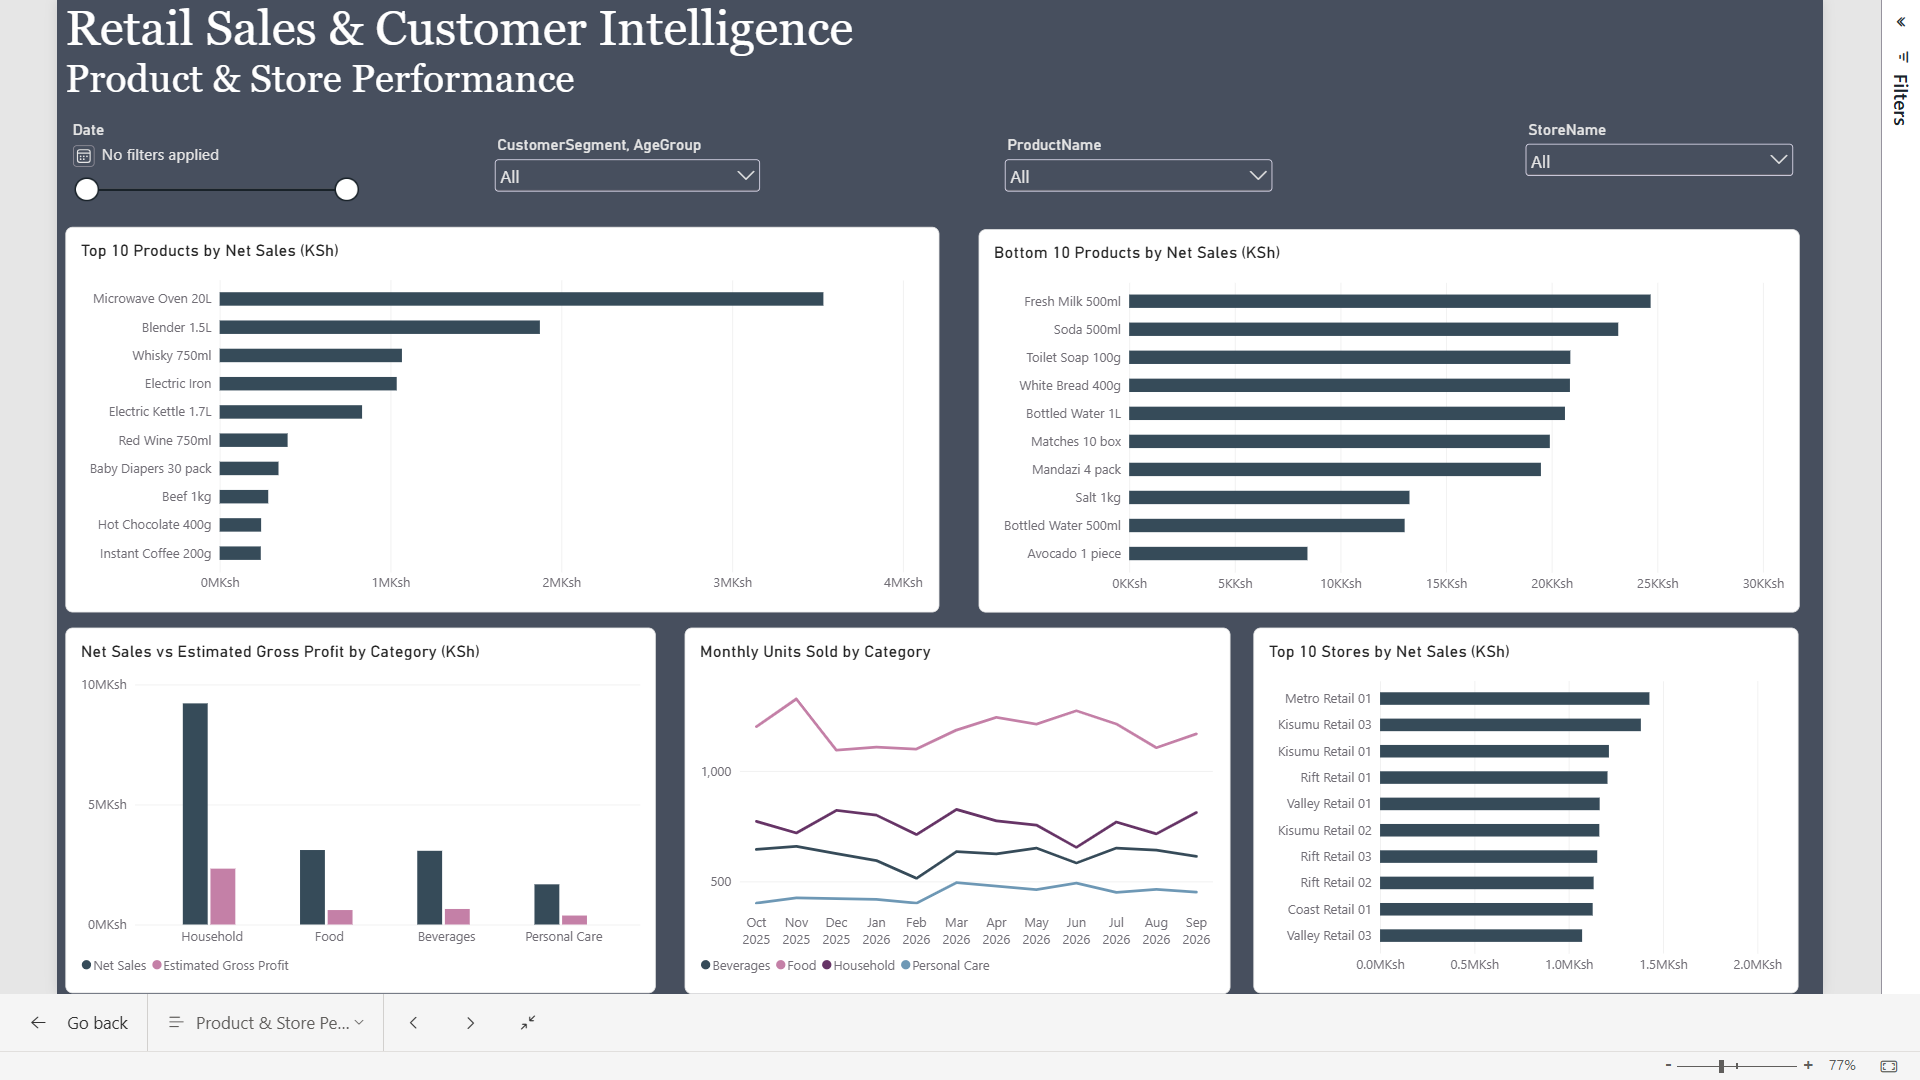

Layout of this report page (visuals, bound fields, positions):
{"tool":"powerbi","page":{"name":"Product & Store Performance","canvas":[1920,1080],"ordinal":1},"visuals":[{"type":"textbox","box":[9.1,0,883.5,129.5],"z":0},{"type":"slicer","fields":{"Values":["DateTable.Date"]},"box":[9.5,130.3,322.1,116.1],"z":1000},{"type":"slicer","fields":{"Values":["customers_cleaned.CustomerSegment","customers_cleaned.AgeGroup"]},"box":[471.3,146.8,298.4,101.8],"z":2000},{"type":"slicer","fields":{"Values":["products_cleaned.ProductName"]},"box":[1025.5,146.8,300.8,82.9],"z":3000},{"type":"slicer","fields":{"Values":["stores_cleaned.StoreName"]},"box":[1591.6,130.3,300.8,99.5],"z":4000},{"type":"clusteredBarChart","title":"Top 10 Products by Net Sales (KSh)","fields":{"Category":["products_cleaned.ProductName"],"Y":["sales_cleaned.Net Sales"]},"box":[9.5,246.3,949.7,419.2],"z":5000},{"type":"clusteredBarChart","title":"Bottom 10 Products by Net Sales (KSh)","fields":{"Category":["products_cleaned.ProductName"],"Y":["sales_cleaned.Net Sales"]},"box":[1001.9,248.7,892.9,416.8],"z":6000},{"type":"clusteredColumnChart","title":"Net Sales vs Estimated Gross Profit by Category (KSh)","fields":{"Category":["products_cleaned.Category"],"Y":["sales_cleaned.Net Sales","sales_cleaned.Estimated Gross Profit"]},"box":[9.5,682.1,641.9,397.9],"z":7000},{"type":"barChart","title":"Top 10 Stores by Net Sales (KSh)","fields":{"Category":["stores_cleaned.StoreName"],"Y":["sales_cleaned.Net Sales"]},"box":[1300.3,682.1,592.1,397.9],"z":8000},{"type":"lineChart","title":"Monthly Units Sold by Category","fields":{"Category":["DateTable.Month"],"Series":["products_cleaned.Category"],"Y":["sales_cleaned.Total Units"]},"box":[682.1,682.1,593,398],"z":9000}]}

Visuals, with their boxes on the page's 1920x1080 design canvas (x1, y1, x2, y2). These are canvas units, not pixel positions in the 1920x1080 screenshot, which may show the page scaled, cropped or inside an application window:
textbox: <region>9, 0, 893, 130</region>
slicer - DateTable.Date: <region>10, 130, 332, 246</region>
slicer - customers_cleaned.CustomerSegment x customers_cleaned.AgeGroup: <region>471, 147, 770, 249</region>
slicer - products_cleaned.ProductName: <region>1026, 147, 1326, 230</region>
slicer - stores_cleaned.StoreName: <region>1592, 130, 1892, 230</region>
"Top 10 Products by Net Sales (KSh)" clusteredBarChart: <region>10, 246, 959, 666</region>
"Bottom 10 Products by Net Sales (KSh)" clusteredBarChart: <region>1002, 249, 1895, 666</region>
"Net Sales vs Estimated Gross Profit by Category (KSh)" clusteredColumnChart: <region>10, 682, 651, 1080</region>
"Top 10 Stores by Net Sales (KSh)" barChart: <region>1300, 682, 1892, 1080</region>
"Monthly Units Sold by Category" lineChart: <region>682, 682, 1275, 1080</region>
